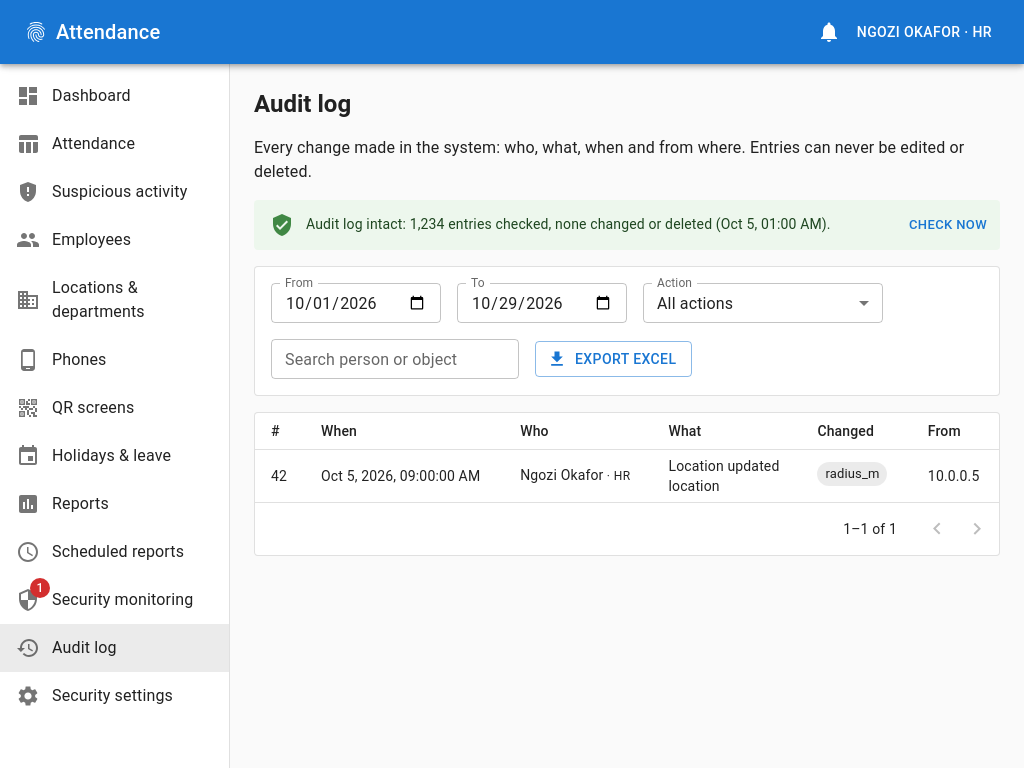
Test case: Audit log › lists entries and shows before / after
This screenshot has width=1024, height=768.
Expected: the text "Location updated" is shown, x1=668 y1=458 x2=780 y2=474
Expected: the text "radius_m" is shown, x1=825 y1=466 x2=880 y2=481
Click the text "Location updated" at (727, 476), box x1=652 y1=450 x2=802 y2=502
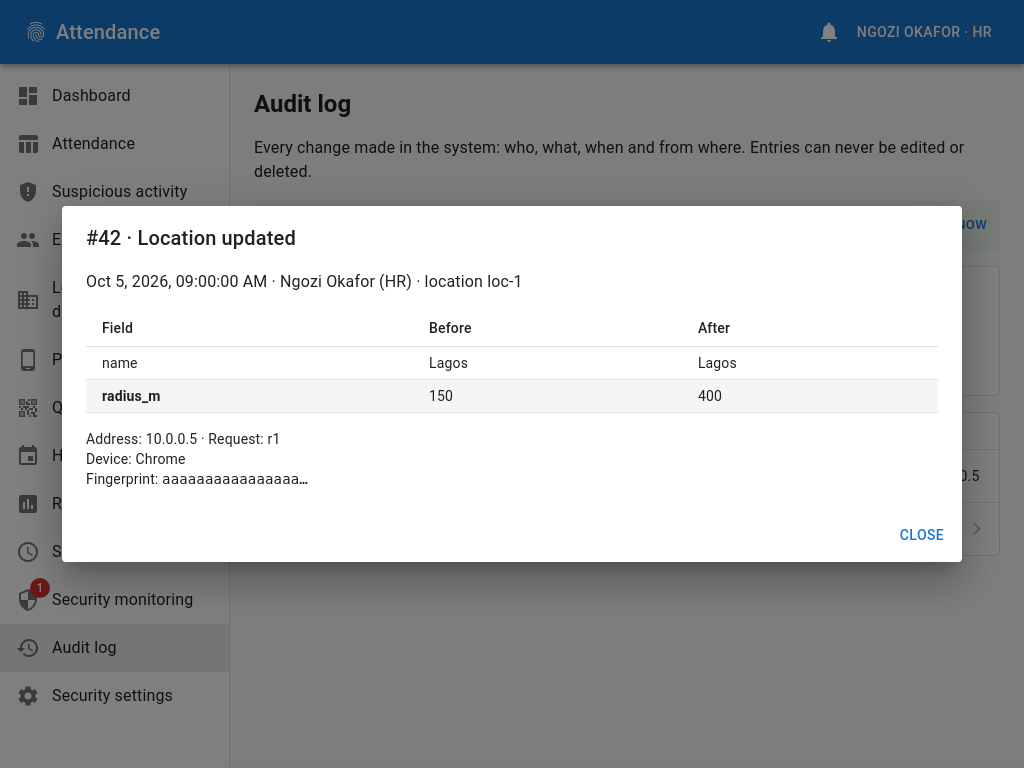
Now the text "150" is shown, box x1=413 y1=380 x2=682 y2=413
Now the text "400" is shown, box x1=682 y1=380 x2=938 y2=413
